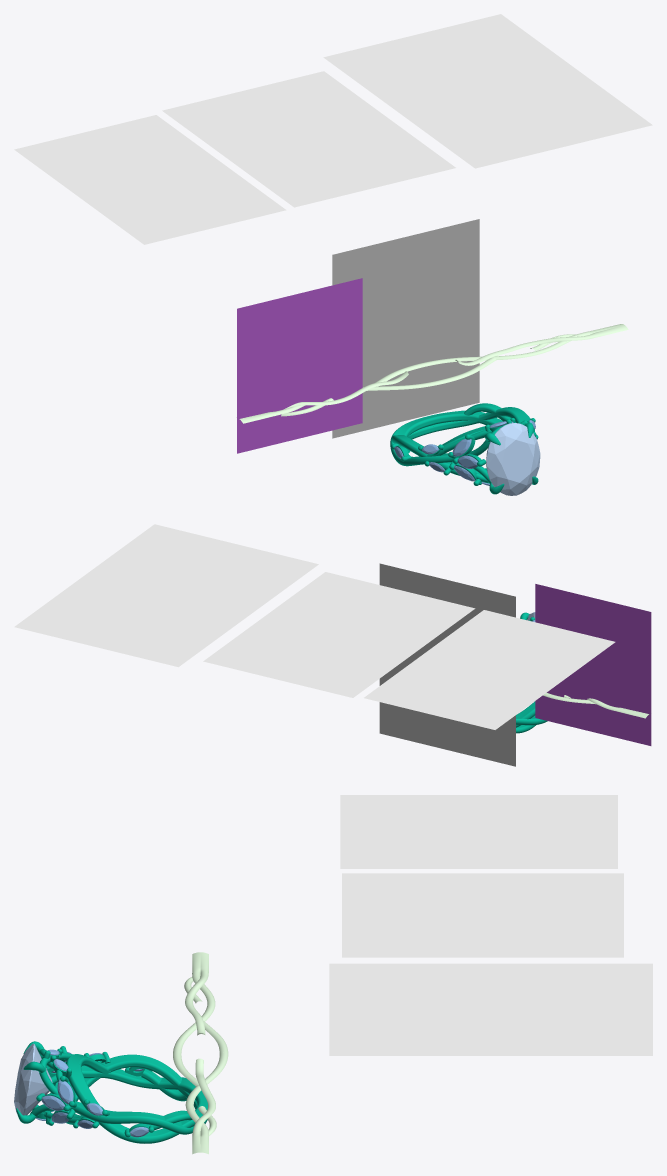
The picture shows the model from 3 angles, top to bottom: view 1: azimuth 30°, elevation 25°; view 2: azimuth 150°, elevation 25°; view 3: azimuth 270°, elevation 25°; orthographic projection. The views are drawn at different scales.
Parts seen in each view (by area): view 1: VR1058(base).3dm, Diamond_Oval; view 2: VR1058(base).3dm; view 3: VR1058(base).3dm, Diamond_Oval.
Part boxes in pixels (bbox=[...]): VR1058(base).3dm: bbox=[14, 14, 652, 494]; Diamond_Oval: bbox=[486, 423, 540, 495]; VR1058(base).3dm: bbox=[14, 524, 651, 766]; VR1058(base).3dm: bbox=[16, 795, 652, 1154]; Diamond_Oval: bbox=[14, 1043, 52, 1115].
Bounding box in the file's own units: 9.34 × 3.56 × 9.64.
